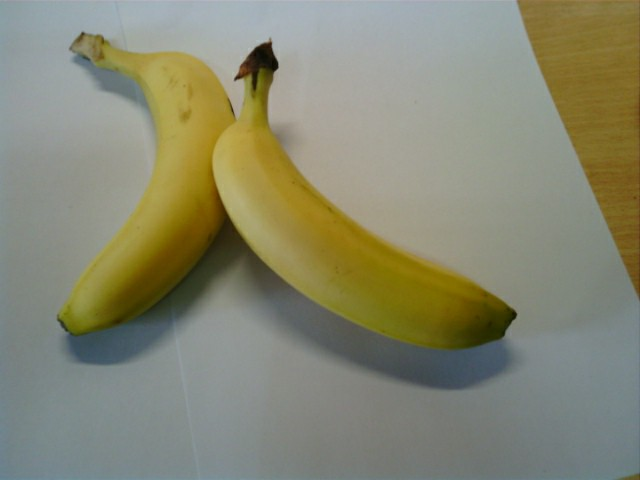fresh_banana: (215, 110, 518, 350), (54, 39, 236, 334)
